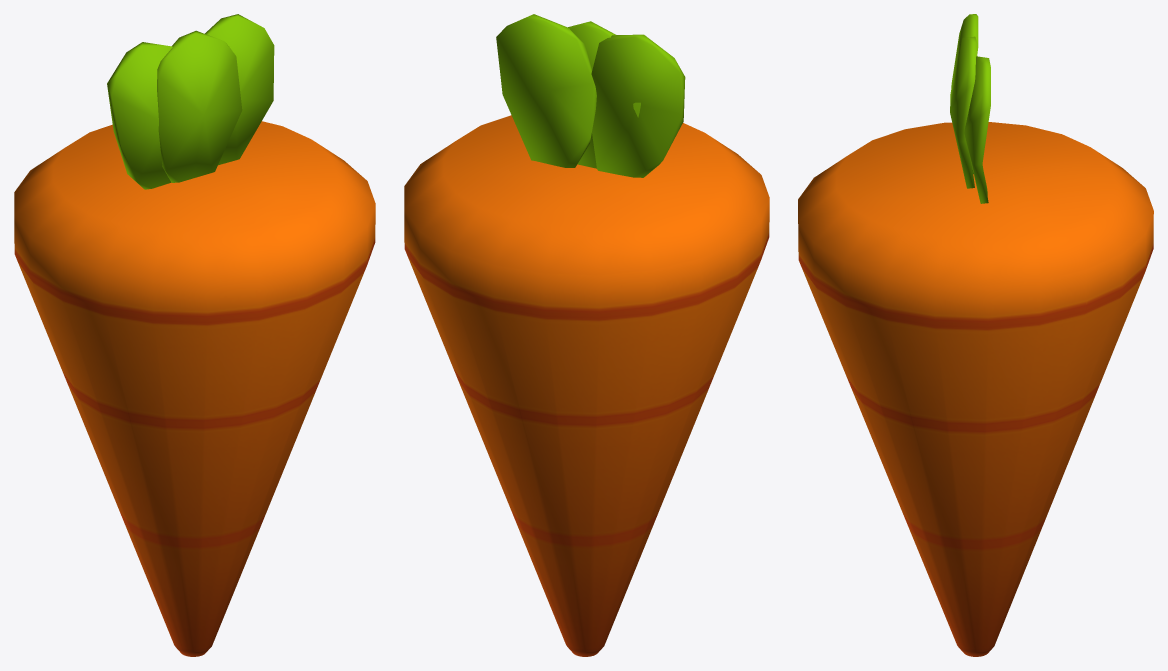
Rendered from orange_carrot.glb.
3 renders of one model, left to right at view 1: azimuth 30°, elevation 25°; view 2: azimuth 150°, elevation 25°; view 3: azimuth 270°, elevation 25°, orthographic. The views are drawn at different scales.
Visible parts, largest first — view 1: Orange_Carrot; view 2: Orange_Carrot; view 3: Orange_Carrot.
Part boxes in pixels (left/top/right/bottom): Orange_Carrot: left=14, top=14, right=375, bottom=656; Orange_Carrot: left=404, top=14, right=769, bottom=656; Orange_Carrot: left=798, top=14, right=1153, bottom=656.
Size of the model in its own units: 0.2772 by 0.5253 by 0.2764.
Materials: 1 (1 with a texture image).
